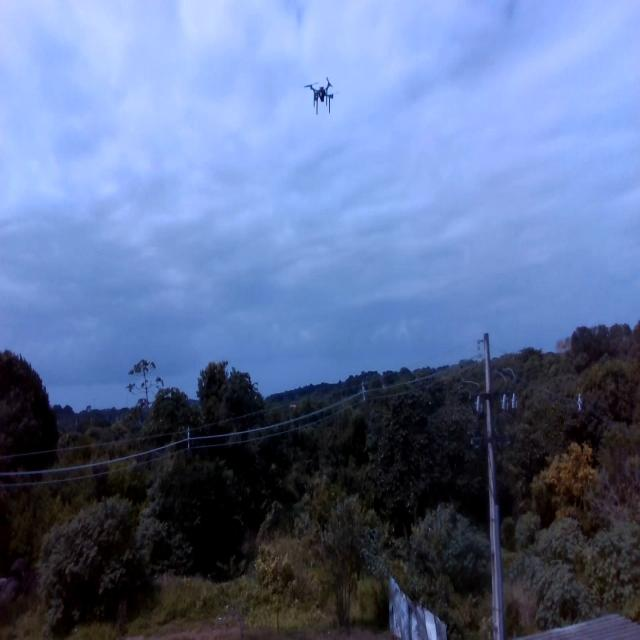-uav-: (302, 65, 342, 125)
